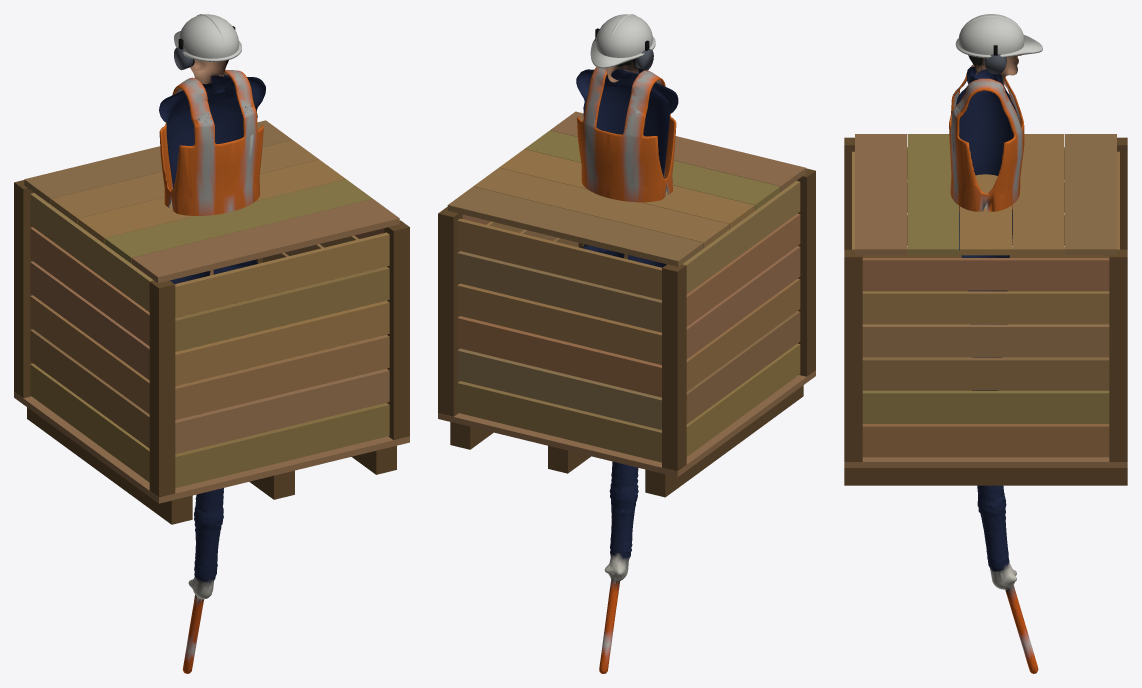
File: crew.glb
The picture shows the model from 3 angles, left to right: view 1: azimuth 30°, elevation 25°; view 2: azimuth 150°, elevation 25°; view 3: azimuth 270°, elevation 25°; orthographic projection. The views are drawn at different scales.
Visible parts, largest first — view 1: crate, crew_body, crew_arm_R, crew_arm_L; view 2: crate, crew_body, crew_arm_R, crew_arm_L; view 3: crate, crew_body, crew_arm_L, crew_arm_R.
Part boxes in pixels (x1=…): crate: x1=14, y1=120, x2=409, y2=524; crew_body: x1=159, y1=14, x2=265, y2=283; crew_arm_R: x1=182, y1=489, x2=221, y2=673; crew_arm_L: x1=183, y1=488, x2=223, y2=673; crate: x1=438, y1=111, x2=815, y2=497; crew_body: x1=576, y1=14, x2=678, y2=267; crew_arm_R: x1=601, y1=462, x2=638, y2=673; crew_arm_L: x1=599, y1=461, x2=632, y2=673; crate: x1=844, y1=134, x2=1127, y2=485; crew_body: x1=949, y1=14, x2=1042, y2=390; crew_arm_L: x1=977, y1=485, x2=1038, y2=673; crew_arm_R: x1=977, y1=485, x2=1034, y2=655.
Size of the model in its own units: 1.08 by 2.77 by 1.08.
